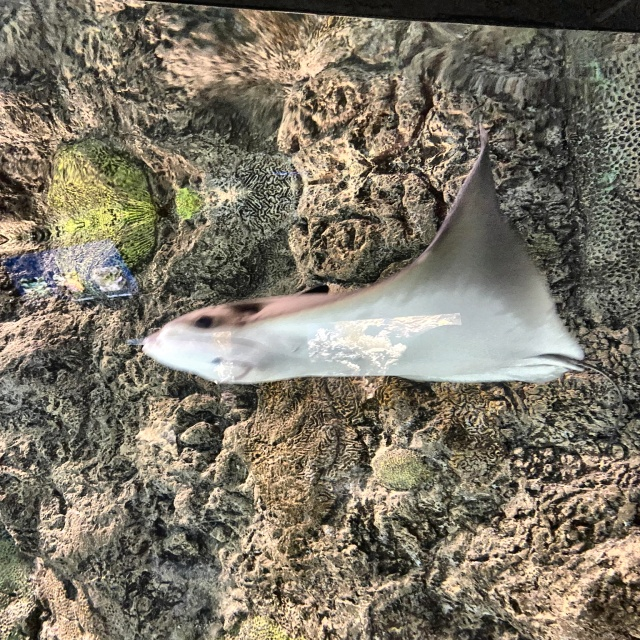fish: (383, 24, 481, 89), (218, 27, 330, 75), (88, 29, 148, 60)
stingray: (140, 114, 580, 383)
